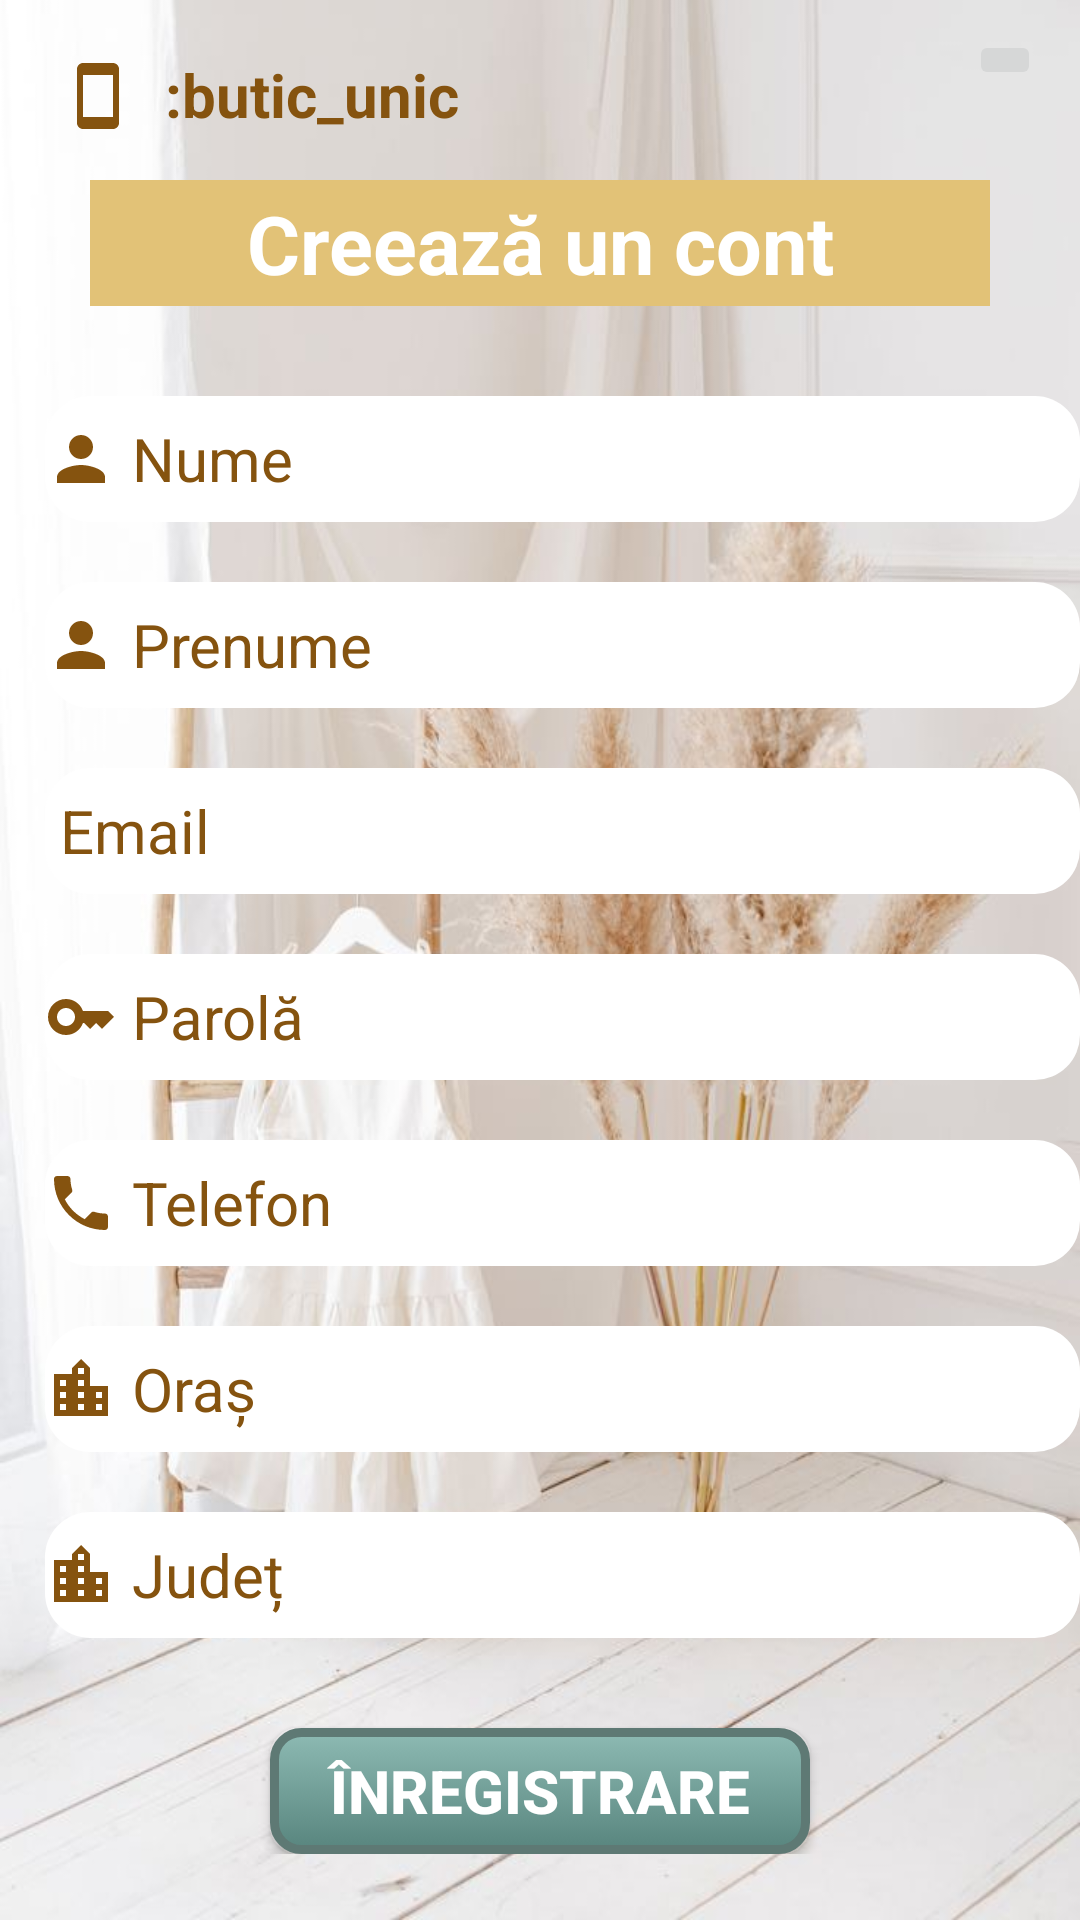

Point at icon controls on the screen. Image size 1080px x 1920px, points as (x=x, y=y).
smartphone: (x=98, y=96)
